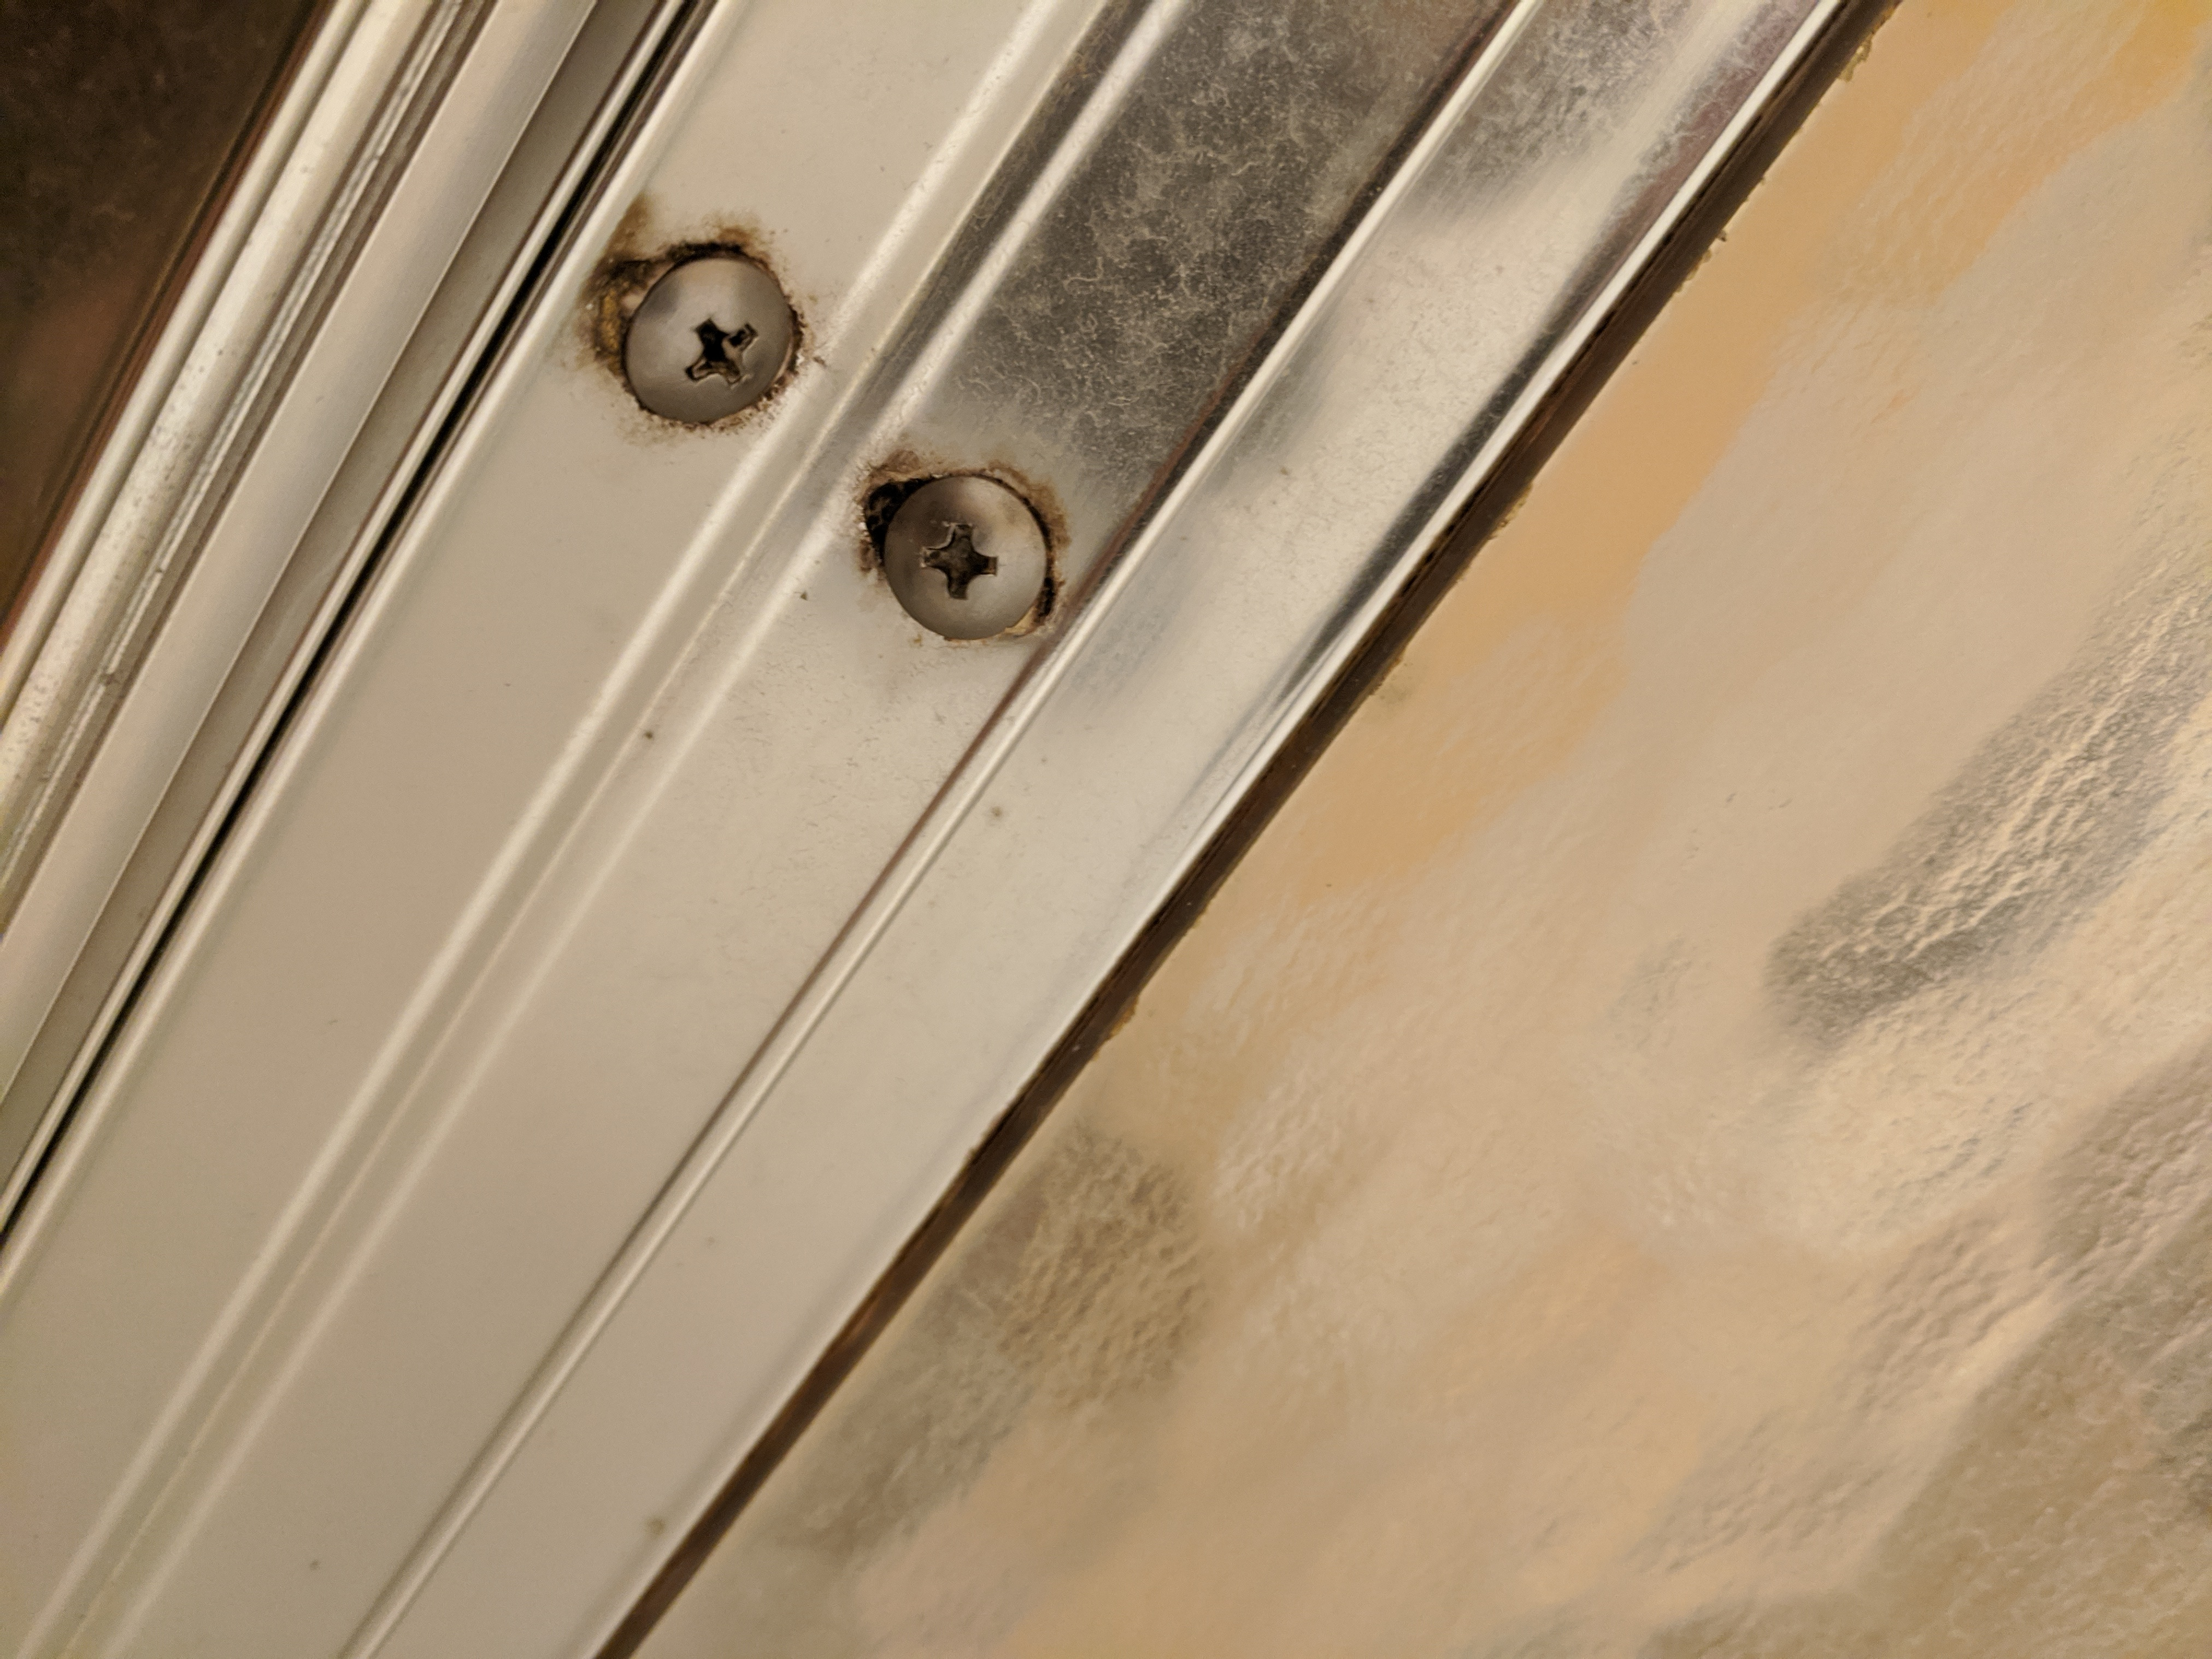cross_recessed_screw: (643, 251, 801, 446), (883, 465, 1049, 647)
